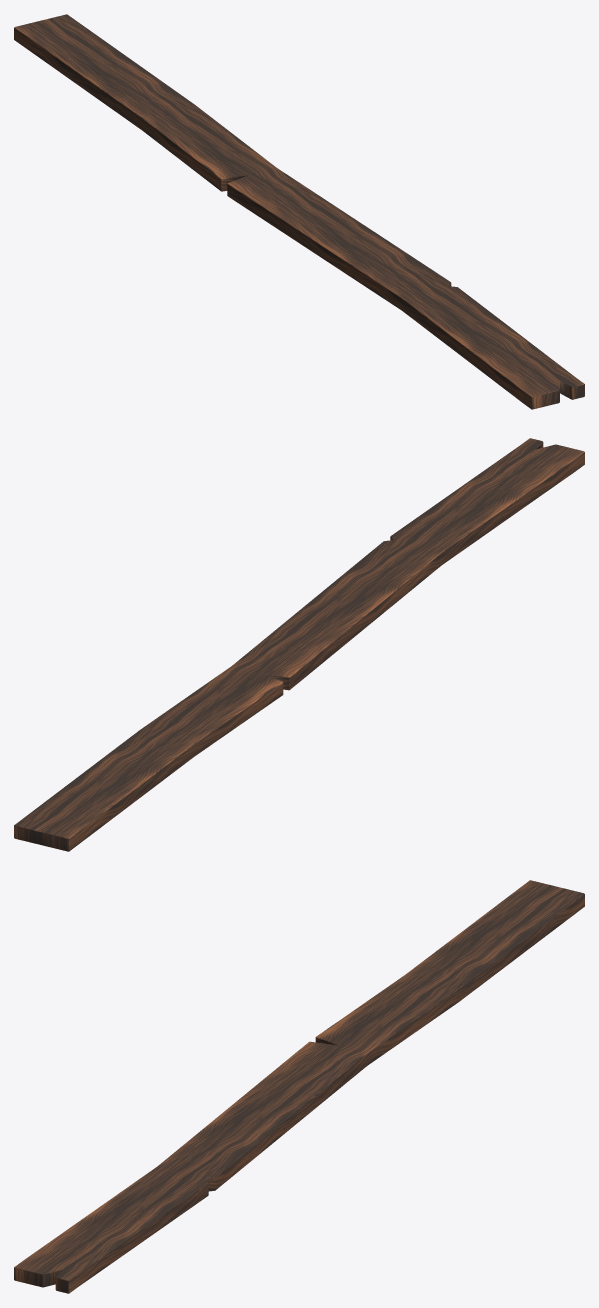
Rendered from Holzbalken_03.fbx.
3 views of the same model, one above another, from view 1: azimuth 30°, elevation 25°; view 2: azimuth 150°, elevation 25°; view 3: azimuth 330°, elevation 25° (orthographic). The views are drawn at different scales.
Visible parts, largest first — view 1: Holzbalken_03; view 2: Holzbalken_03; view 3: Holzbalken_03.
Boxes of the visible parts, x1=… form: Holzbalken_03: x1=14, y1=14, x2=584, y2=409; Holzbalken_03: x1=14, y1=438, x2=584, y2=851; Holzbalken_03: x1=14, y1=880, x2=584, y2=1293.
Size of the model in its own units: 0.7832 by 0.15 by 10.25.
